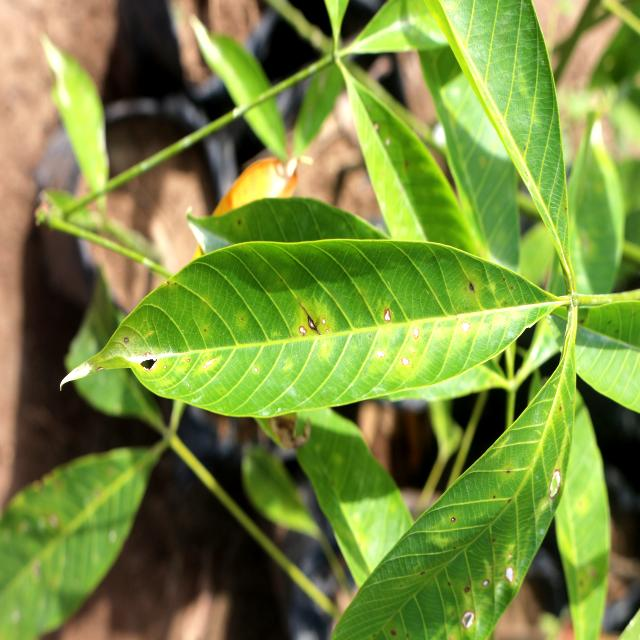Colletotrichum: (452, 517, 456, 522), (163, 366, 167, 369), (187, 359, 190, 362)
